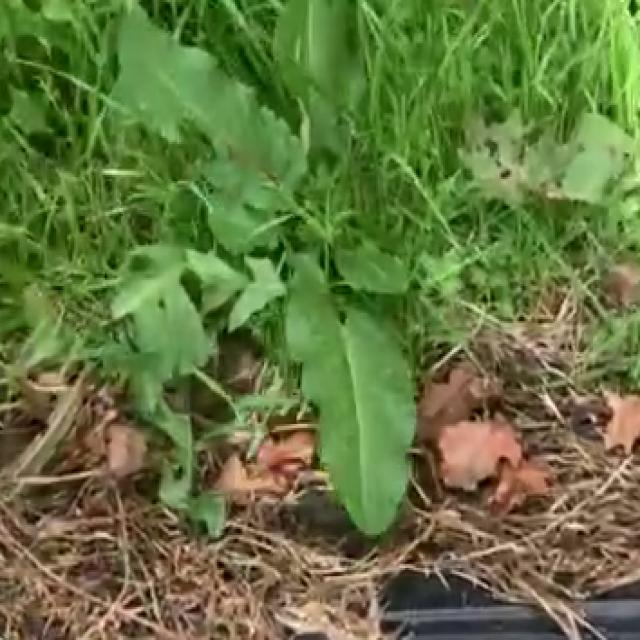organic waste: (84, 0, 542, 556)
